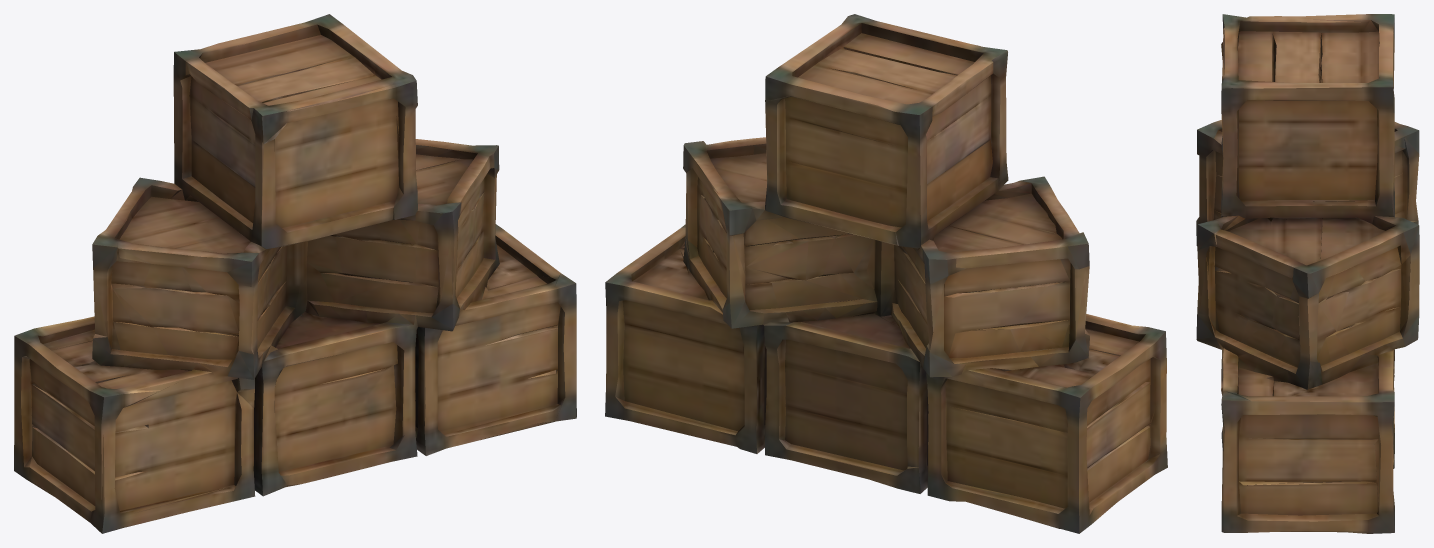
The model's file is cargo_crate_stack.glb.
3 views of the same model, side by side, from view 1: azimuth 30°, elevation 25°; view 2: azimuth 150°, elevation 25°; view 3: azimuth 270°, elevation 25° (orthographic). The views are drawn at different scales.
Parts seen in each view (by area): view 1: turn; view 2: turn; view 3: turn.
Part boxes in pixels (box(x1,y1,x2,y2)): turn: box(14, 14, 576, 533); turn: box(605, 14, 1167, 533); turn: box(1196, 14, 1419, 533).
Size of the model in its own units: 2.09 by 1.6 by 0.873.
1 material, 1 textured.
